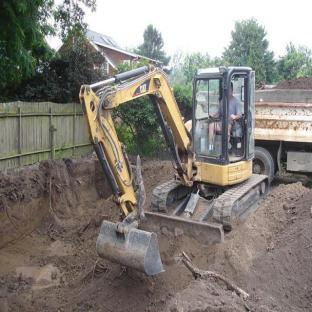ExcavationMachinery: (70, 40, 273, 275)
